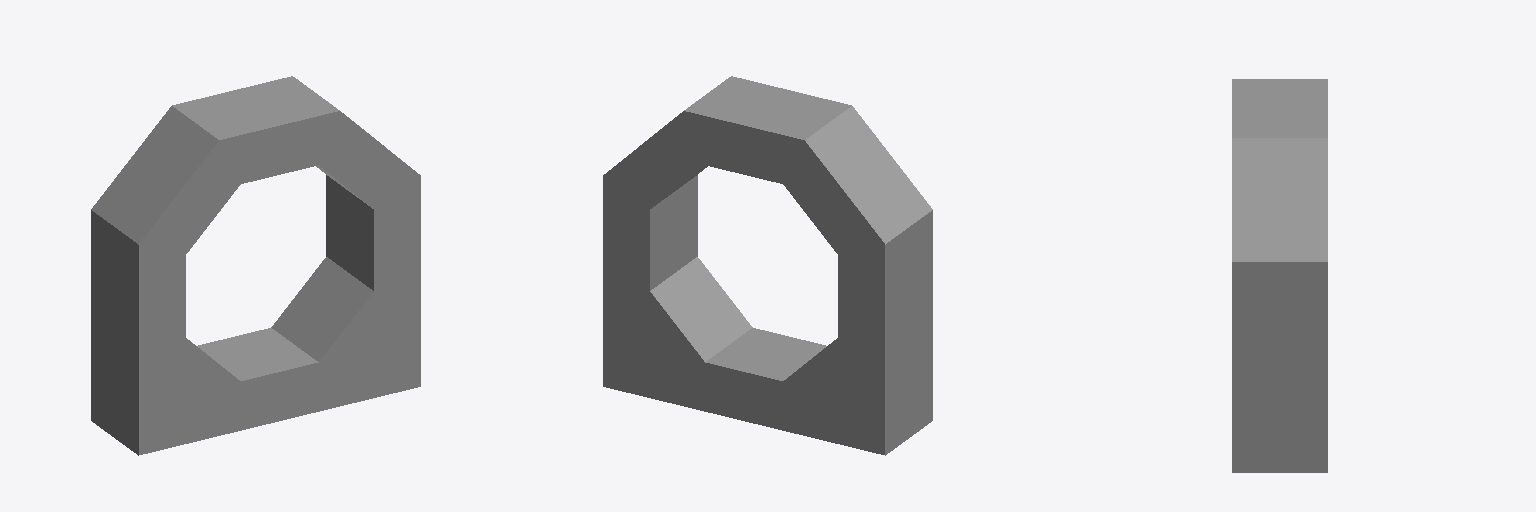
File: mag_ring.obj
3 views of the same model, side by side, from view 1: azimuth 30°, elevation 25°; view 2: azimuth 150°, elevation 25°; view 3: azimuth 270°, elevation 25° (orthographic).
Visible parts, largest first — view 1: MagRing_Cube.048; view 2: MagRing_Cube.048; view 3: MagRing_Cube.048.
Boxes of the visible parts, <box> form: MagRing_Cube.048: <box>91,76,420,455</box>; MagRing_Cube.048: <box>603,76,932,455</box>; MagRing_Cube.048: <box>1232,79,1327,472</box>.
Size of the model in its own units: 3 by 3 by 0.875.